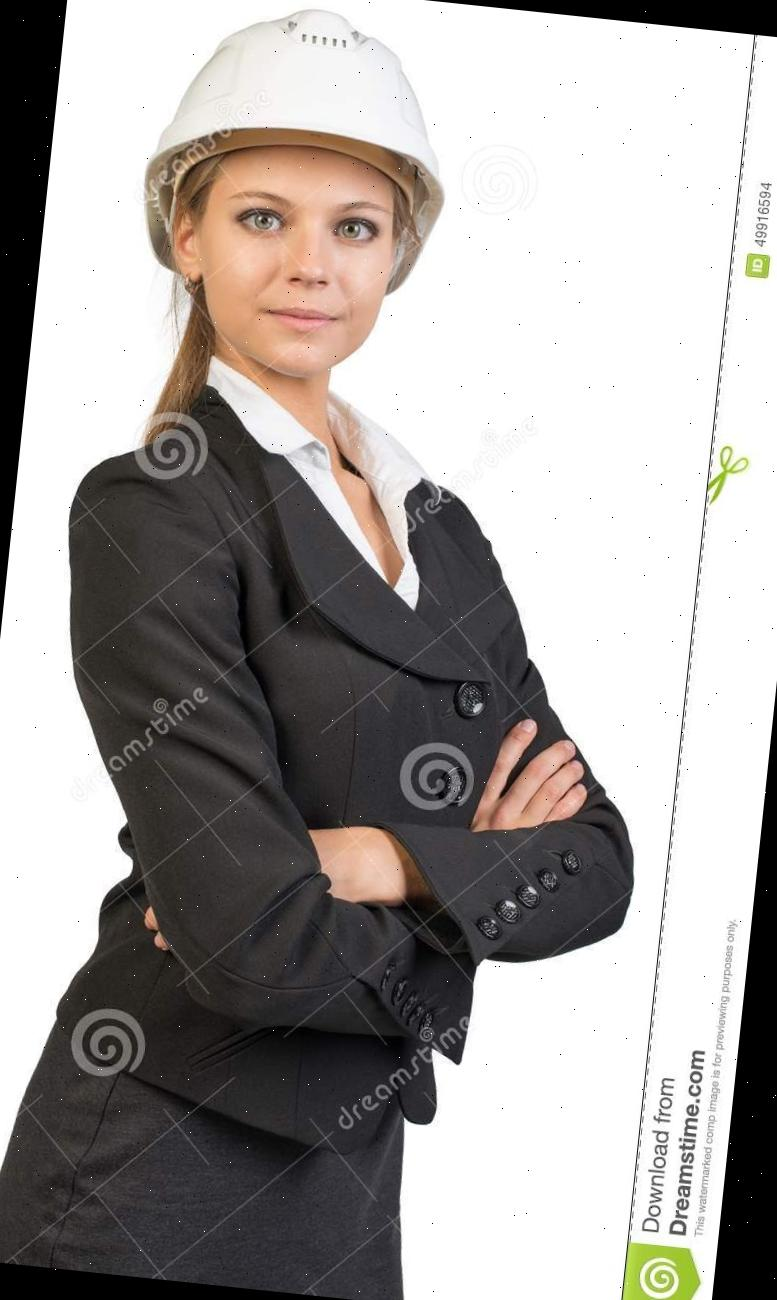helmet: (131, 0, 464, 295)
no_wear: (16, 400, 532, 1117)
